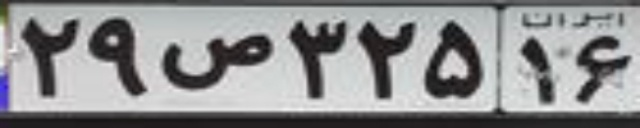1: (518, 35, 554, 103)
2: (354, 20, 416, 98), (20, 16, 78, 98)
3: (286, 19, 345, 98)
5: (424, 19, 481, 98)
6: (569, 34, 630, 103)
9: (88, 15, 150, 96)
saat: (158, 32, 277, 90)
